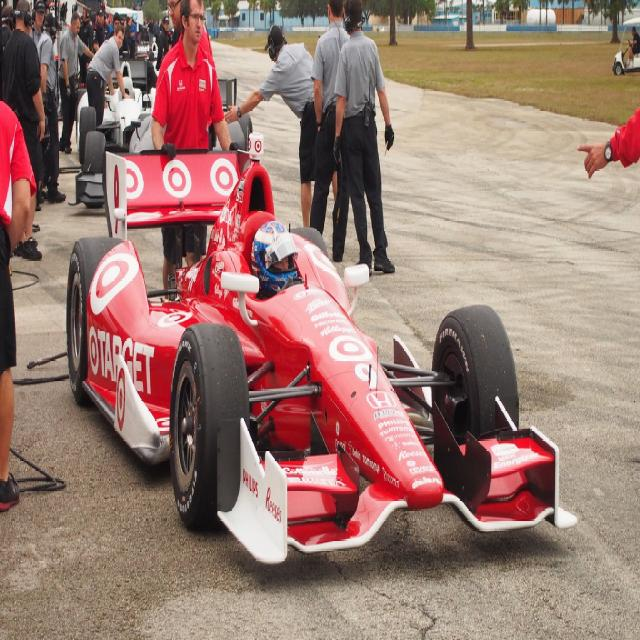car: (64, 150, 577, 558)
